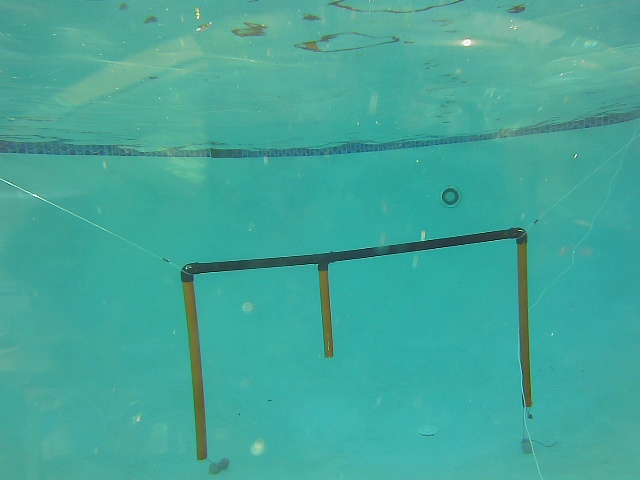Gate: (181, 274, 210, 465), (513, 237, 539, 408), (315, 265, 337, 359)
